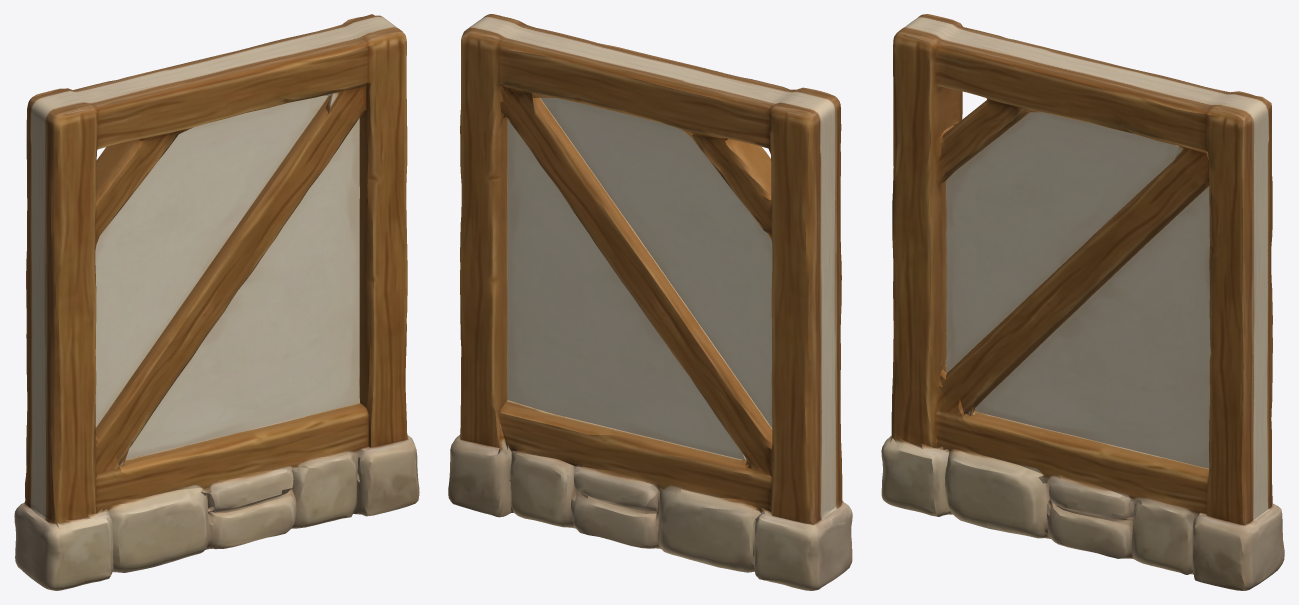
Rendered from homestead_wall_segment.glb.
3 renders of one model, left to right at view 1: azimuth 30°, elevation 25°; view 2: azimuth 150°, elevation 25°; view 3: azimuth 330°, elevation 25°, orthographic.
Parts seen in each view (by area): view 1: Mesh_0; view 2: Mesh_0; view 3: Mesh_0.
Part boxes in pixels (x1,y1,x2,y2): Mesh_0: [14, 14, 419, 590]; Mesh_0: [448, 14, 852, 590]; Mesh_0: [881, 14, 1284, 590].
Bounding box in the file's own units: 1.57 × 1.9 × 0.3141.
1 material, 1 textured.
